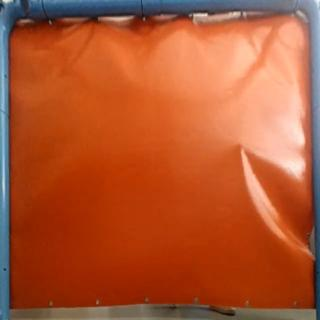Hit-hRxx: (232, 138, 246, 154)
